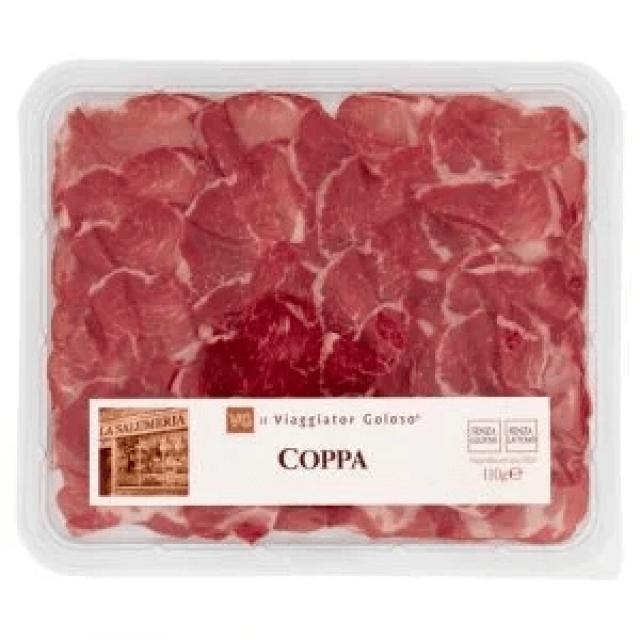Ham: (19, 62, 625, 580)
